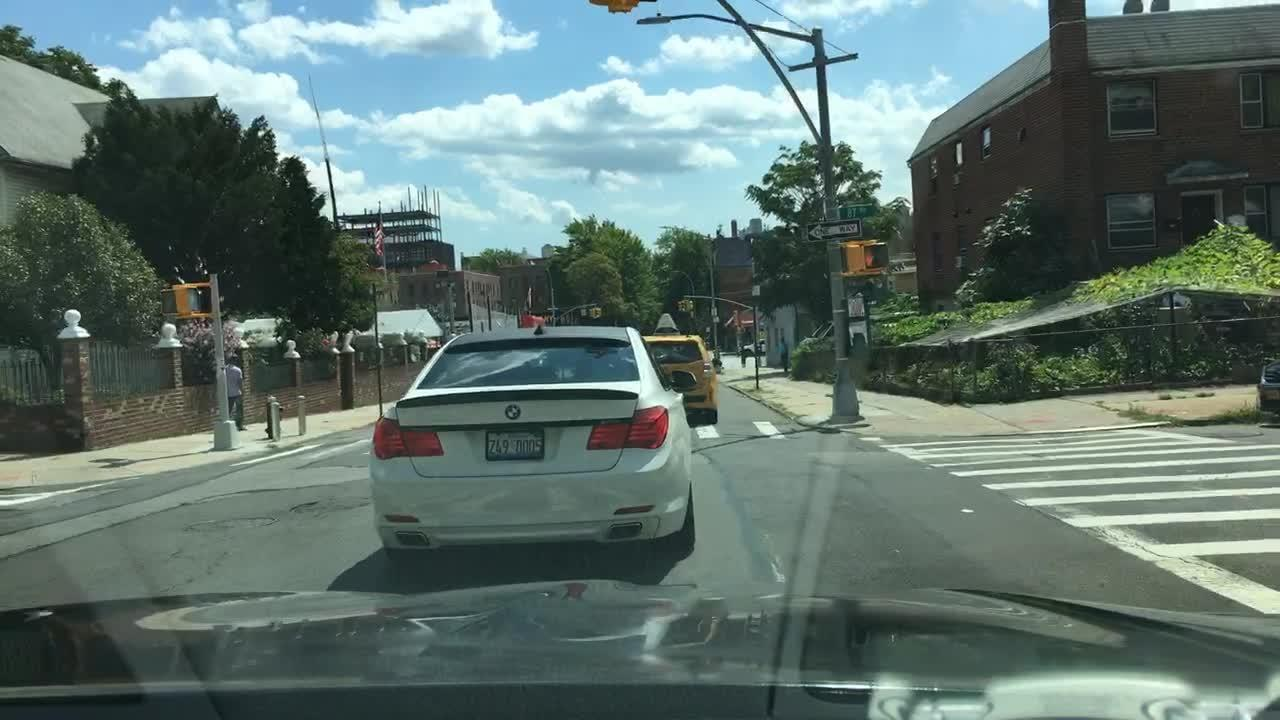bmw: (498, 397, 525, 428)
